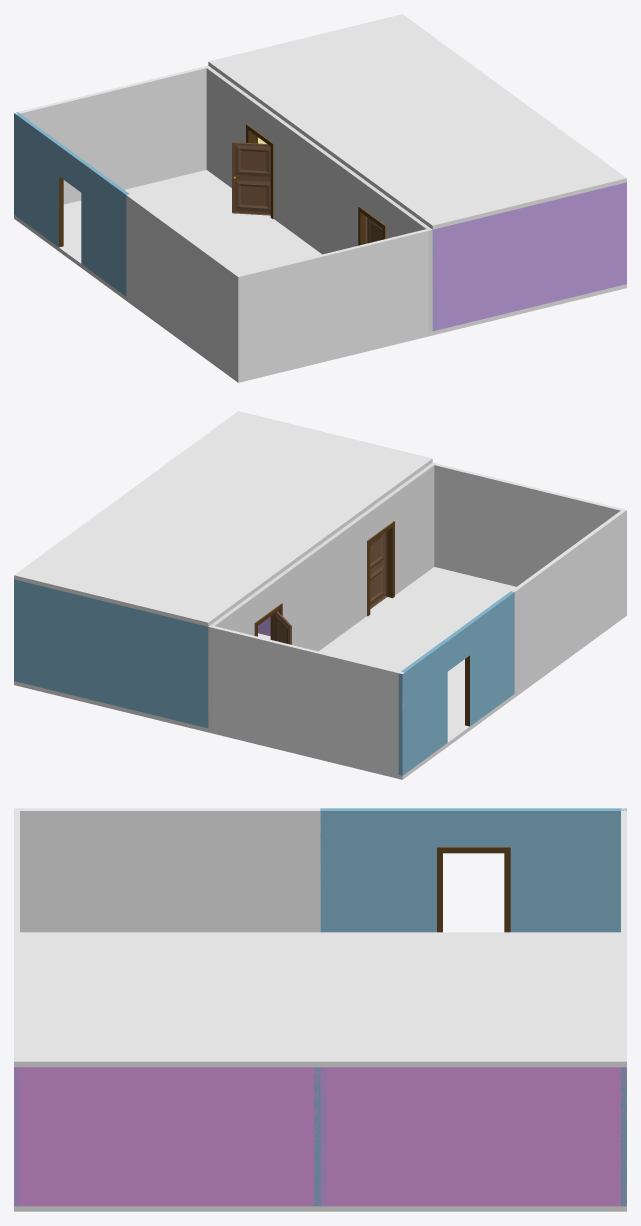
The model's file is FigurarEnviroment.glb.
The picture shows the model from 3 angles, top to bottom: view 1: azimuth 30°, elevation 25°; view 2: azimuth 150°, elevation 25°; view 3: azimuth 270°, elevation 25°; orthographic projection. The views are drawn at different scales.
Visible parts, largest first — view 1: Room_1_Roof, Room_3_Roof, Room_1_Wall_1, Room_2_Wall_4, Room_2_Wall_2, Room_2_Wall_1, Room_2_Wall_3, Room_2_Floor, Room_2_Wall_5, Room_3_Door, Room_1_Floor; view 2: Room_3_Roof, Room_1_Roof, Room_2_Wall_1, Room_3_Wall_4, Room_2_Wall_2, Room_2_Wall_4, Room_2_Floor, Room_2_Wall_3, Room_2_Wall_5, Room_1_Door, Room_3_Floor; view 3: Room_1_Wall_3, Room_3_Wall_3, Room_3_Roof, Room_1_Roof, Room_2_Wall_3, Room_2_Wall_5, Room_1_Floor, Room_3_Floor, Room_3_Wall_1, Room_1_Wall_4, Room_3_Wall_4, Room_1_Wall_1 (+2 smaller).
Part boxes in pixels (box(x1,y1,x2,y2)): Room_1_Roof: box(320, 96, 626, 229); Room_3_Roof: box(208, 14, 514, 146); Room_1_Wall_1: box(432, 182, 626, 331); Room_2_Wall_4: box(236, 229, 432, 378); Room_2_Wall_2: box(206, 67, 432, 332); Room_2_Wall_1: box(14, 65, 209, 204); Room_2_Wall_3: box(126, 194, 242, 378); Room_2_Floor: box(14, 170, 432, 382); Room_2_Wall_5: box(14, 112, 129, 296); Room_3_Door: box(232, 142, 270, 215); Room_1_Floor: box(432, 284, 626, 335); Room_3_Roof: box(14, 493, 320, 626); Room_1_Roof: box(126, 411, 432, 543); Room_2_Wall_1: box(208, 626, 404, 774); Room_3_Wall_4: box(14, 579, 208, 728); Room_2_Wall_2: box(208, 462, 435, 728); Room_2_Wall_4: box(432, 463, 626, 612); Room_2_Floor: box(208, 567, 626, 779); Room_2_Wall_3: box(511, 509, 624, 693); Room_2_Wall_5: box(398, 591, 514, 775); Room_1_Door: box(370, 531, 387, 608); Room_3_Floor: box(14, 633, 270, 732); Room_1_Wall_3: box(14, 1067, 320, 1206); Room_3_Wall_3: box(320, 1067, 626, 1206); Room_3_Roof: box(320, 932, 626, 1067); Room_1_Roof: box(14, 932, 320, 1067); Room_2_Wall_3: box(14, 808, 320, 932); Room_2_Wall_5: box(320, 808, 626, 932); Room_1_Floor: box(14, 1206, 320, 1211); Room_3_Floor: box(320, 1206, 626, 1211); Room_3_Wall_1: box(320, 1067, 326, 1206); Room_1_Wall_4: box(314, 1067, 320, 1206); Room_3_Wall_4: box(621, 1067, 626, 1206); Room_1_Wall_1: box(14, 1067, 19, 1206).
Bounding box in the file's own units: 10 × 2.7 × 10.
Materials: 4 (2 with a texture image).
